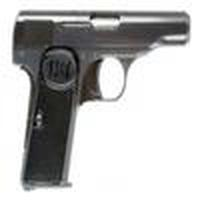gun: (15, 10, 193, 183)
